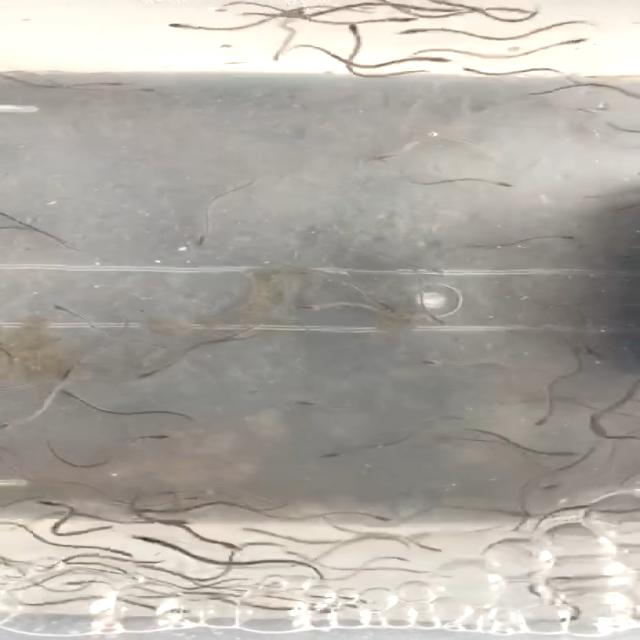active_glass_eel: (117, 502, 163, 518), (408, 542, 453, 556), (58, 364, 84, 388), (124, 532, 162, 548), (546, 36, 594, 48), (208, 540, 244, 556), (96, 544, 132, 560), (47, 384, 80, 401), (54, 304, 94, 318), (406, 54, 461, 64), (384, 12, 422, 26), (291, 300, 329, 314), (130, 368, 168, 382), (129, 430, 173, 442), (166, 492, 210, 504), (365, 148, 407, 160), (323, 445, 359, 459), (33, 497, 68, 511), (580, 344, 610, 360), (342, 22, 368, 40), (192, 228, 218, 246), (294, 396, 333, 408), (538, 232, 580, 243), (354, 513, 396, 524), (162, 21, 206, 31), (542, 446, 578, 458), (391, 28, 433, 38), (540, 477, 568, 492), (123, 85, 161, 96), (416, 354, 444, 368), (498, 520, 530, 532), (421, 312, 448, 326), (370, 296, 393, 312), (525, 414, 551, 428), (98, 78, 134, 88), (482, 178, 518, 188), (282, 8, 310, 20), (458, 68, 497, 76)
